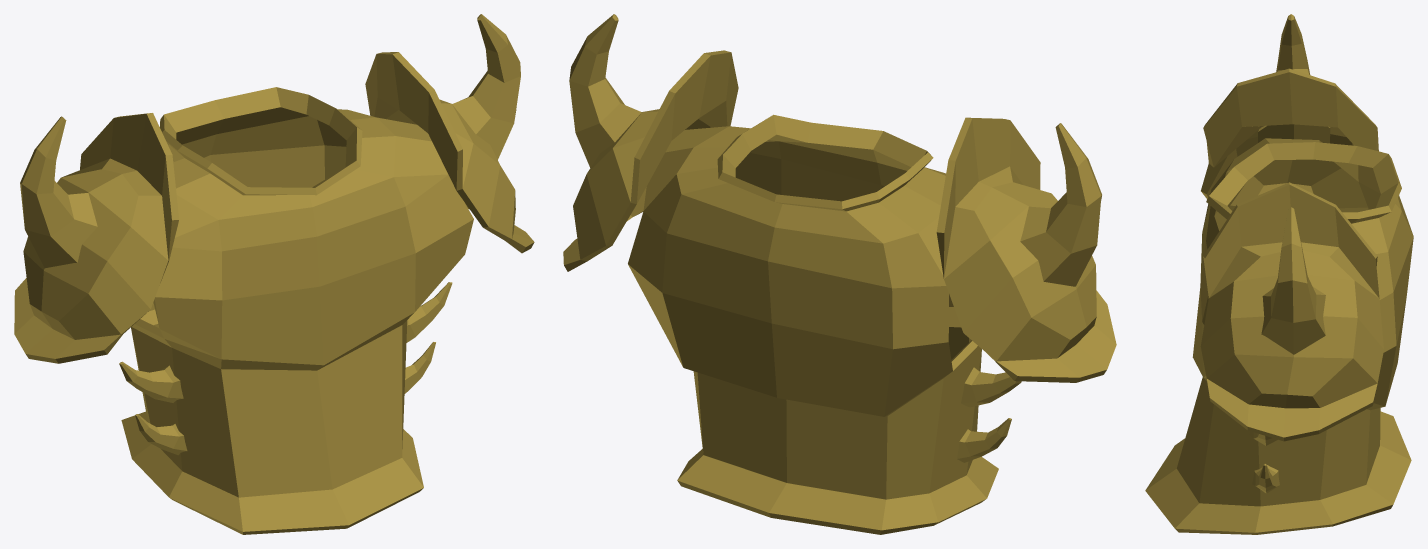
Rendered from oro.glb.
The picture shows the model from 3 angles, left to right: view 1: azimuth 30°, elevation 25°; view 2: azimuth 150°, elevation 25°; view 3: azimuth 270°, elevation 25°; orthographic projection. The views are drawn at different scales.
Parts seen in each view (by area): view 1: Armor_Golden_Cylinder.054; view 2: Armor_Golden_Cylinder.054; view 3: Armor_Golden_Cylinder.054.
Boxes of the visible parts, left/top/right/bottom form: Armor_Golden_Cylinder.054: left=14, top=14, right=534, bottom=534; Armor_Golden_Cylinder.054: left=563, top=14, right=1116, bottom=534; Armor_Golden_Cylinder.054: left=1145, top=14, right=1413, bottom=534.
Bounding box in the file's own units: 1.54 × 1.2 × 0.7595.
